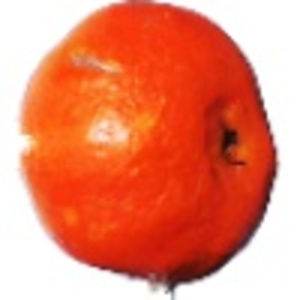tangerina: (16, 1, 283, 300)
